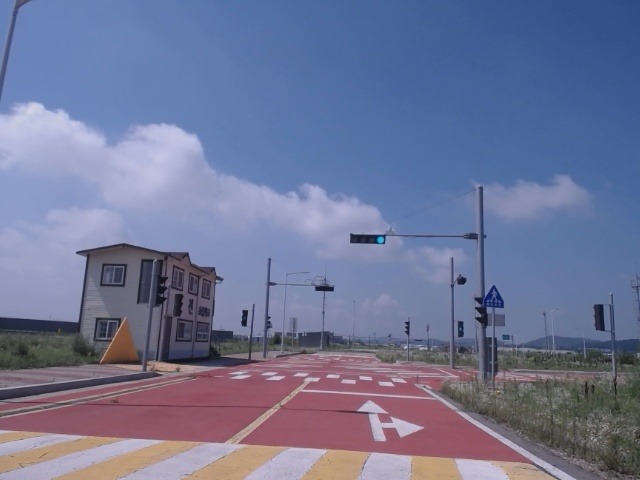straight_green_4: (350, 234, 386, 244)
